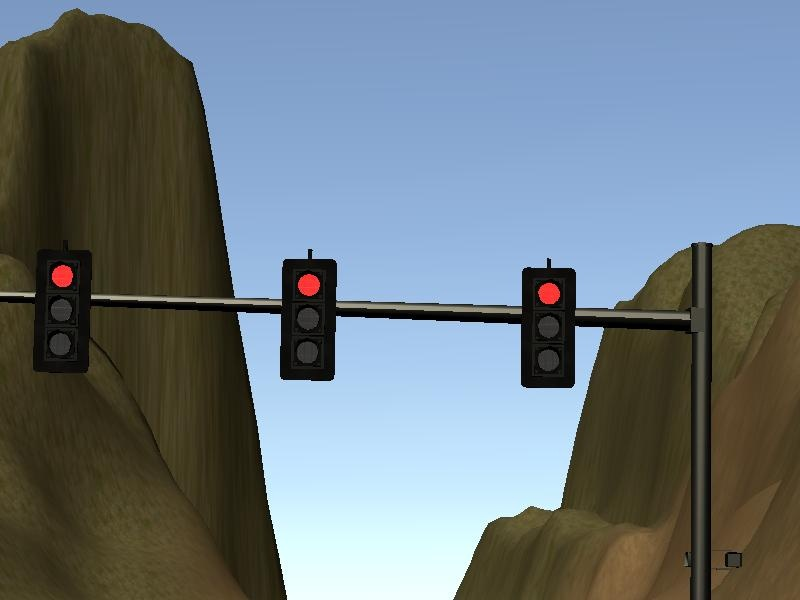RED: (30, 246, 90, 376), (278, 257, 336, 381), (522, 267, 575, 390)
